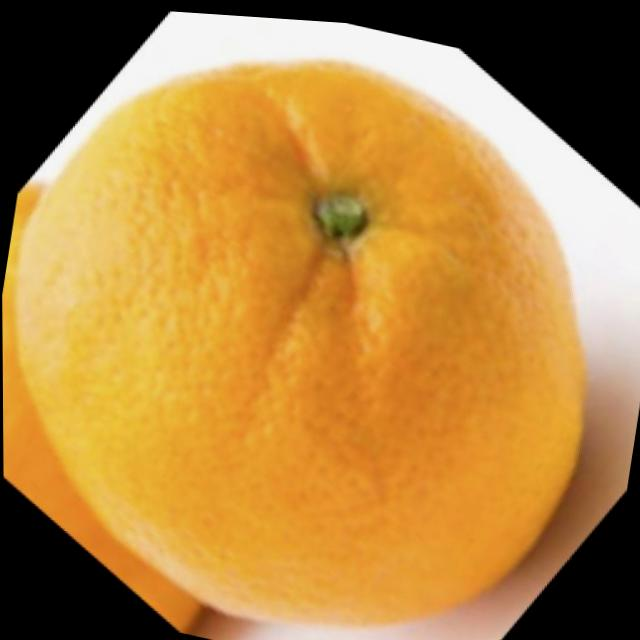Orange: (0, 0, 635, 640), (1, 174, 264, 637)
